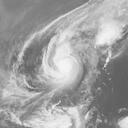cyclone: (41, 39, 84, 90)
